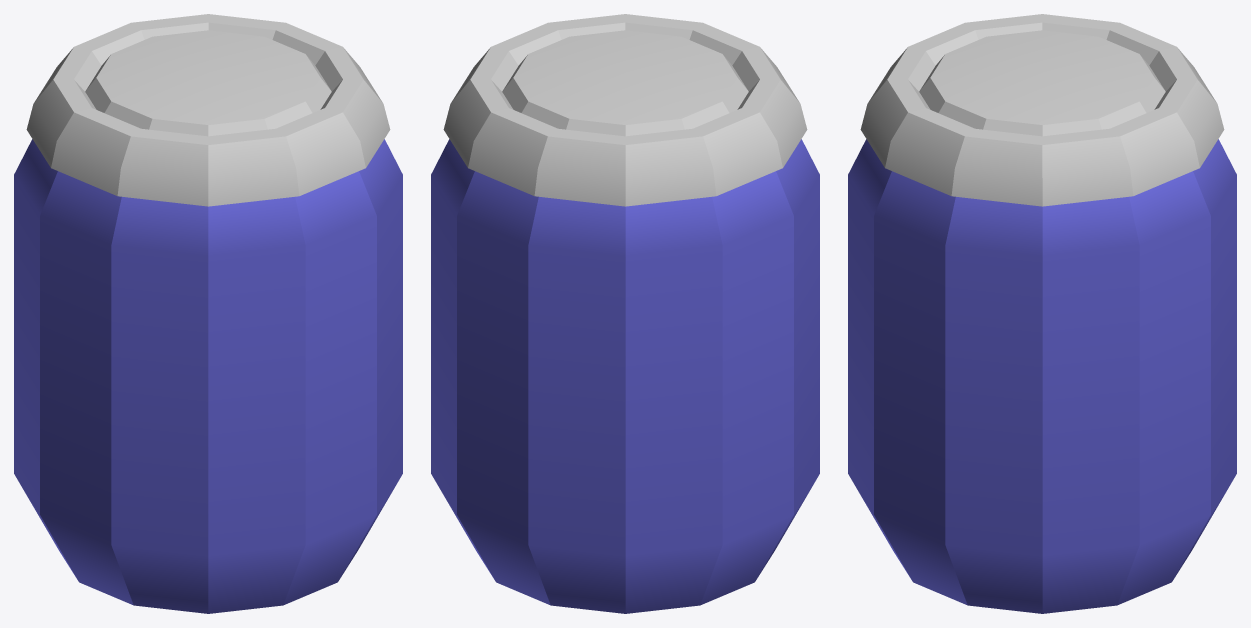
The model's file is bariloz.fbx.
3 views of the same model, side by side, from view 1: azimuth 30°, elevation 25°; view 2: azimuth 150°, elevation 25°; view 3: azimuth 270°, elevation 25° (orthographic).
Visible parts, largest first — view 1: barile; view 2: barile; view 3: barile.
Part boxes in pixels (box(x1,y1,x2,y2)): barile: box(14, 14, 402, 613); barile: box(431, 14, 819, 613); barile: box(848, 14, 1236, 613).
Size of what is drawn, in the model's own units: 91.13 by 124 by 91.13.
